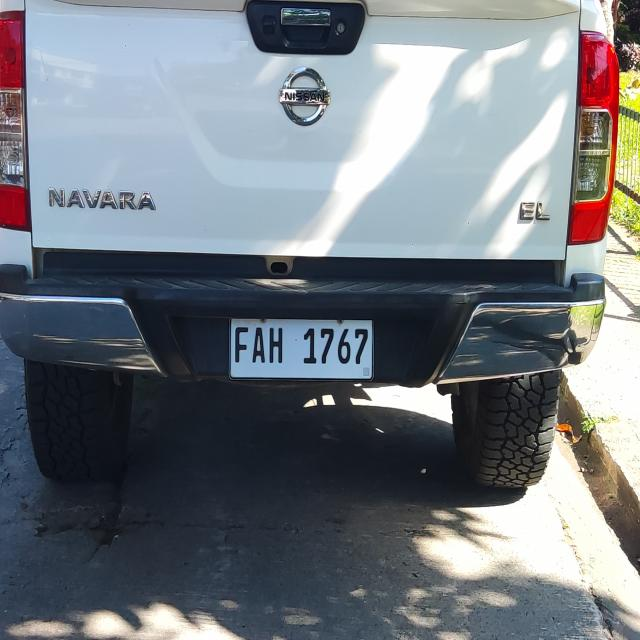plate: (226, 314, 377, 385)
